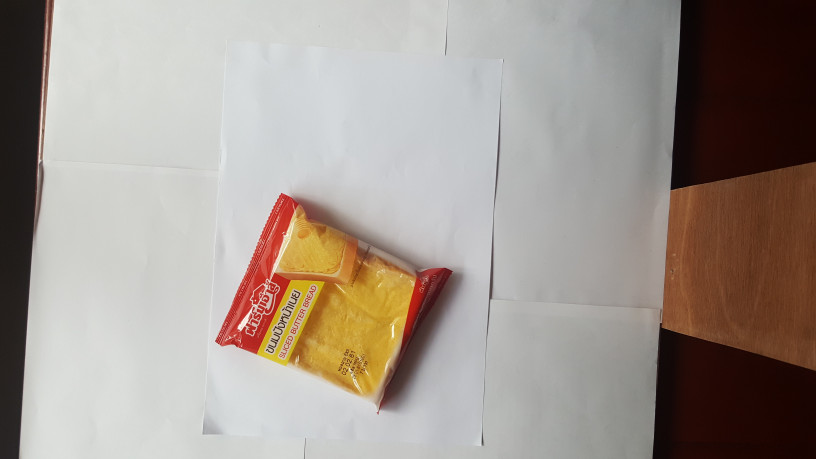farmhouse-bread-butter: (201, 192, 456, 420)
